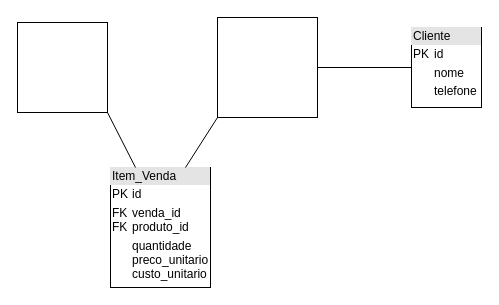
This 499x305 diagram has some shape labels left out. Here are the shapes that lost their labels. From the top down, the centre of each, then its label:
(62,67): Venda PK id FK cliente_id data_venda status
(267,67): Produto PK id nome preco_conpra preco_venda quantidade
